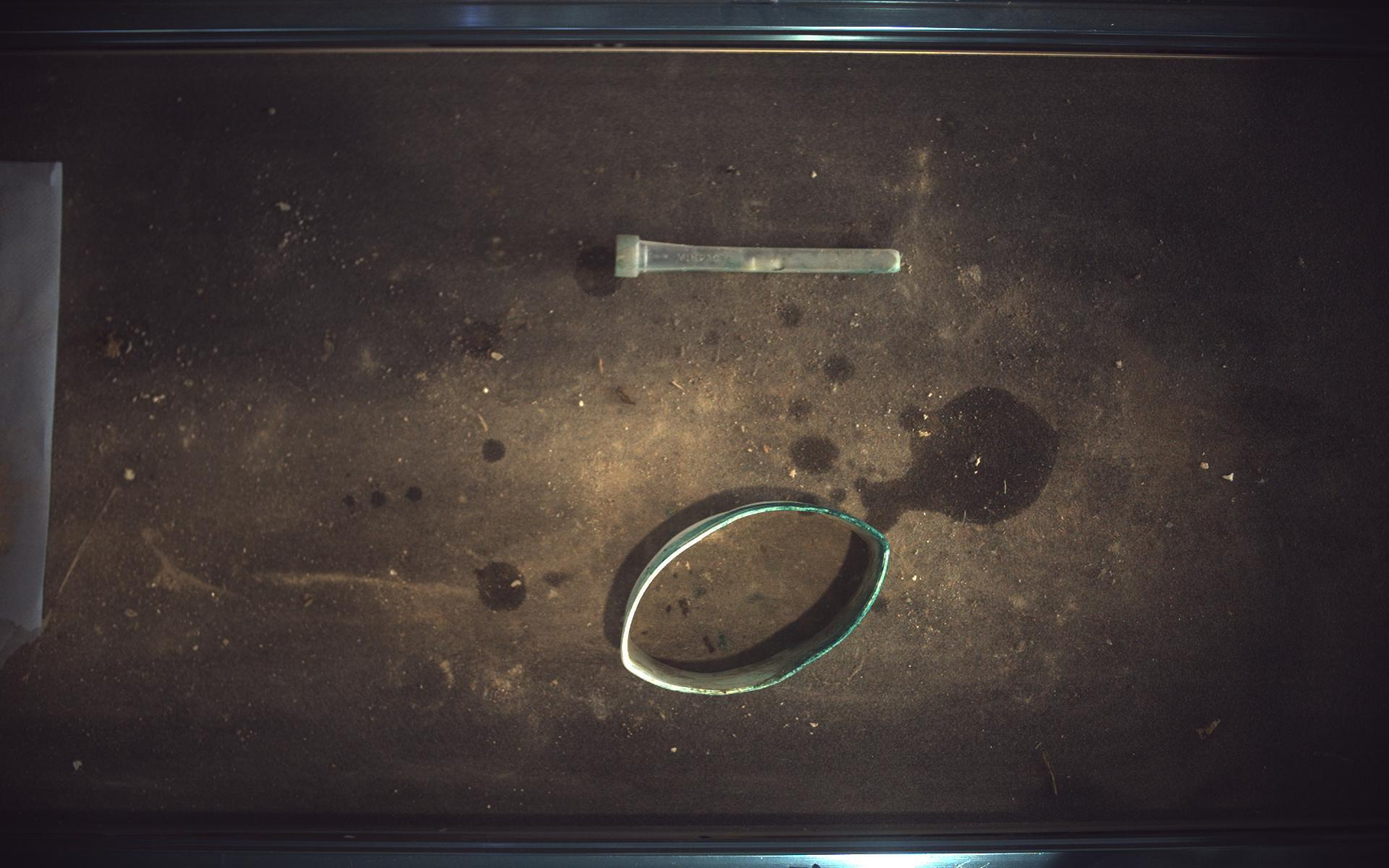plastic: (622, 502, 891, 696), (616, 234, 903, 277)
